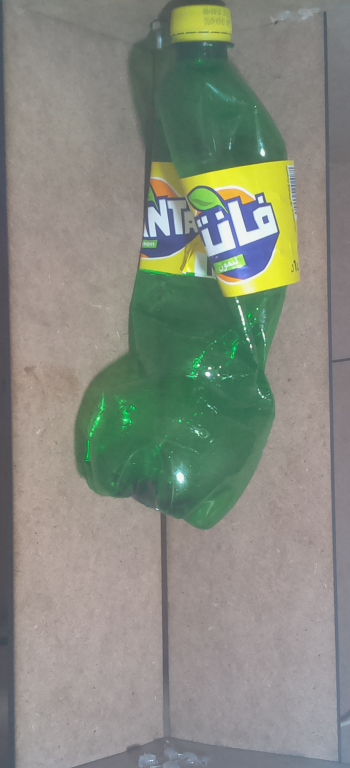Bouteille_1L: (74, 2, 308, 535)
